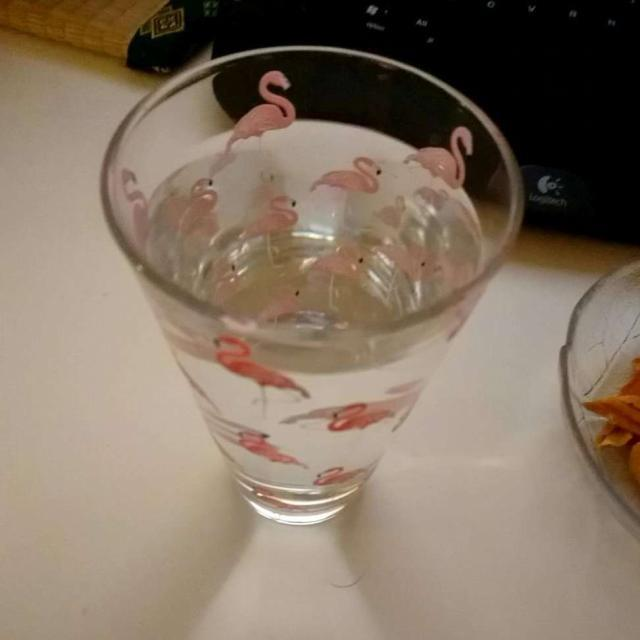water: (124, 118, 470, 536)
